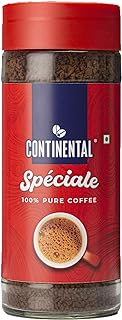Coffee: (2, 3, 122, 317)
